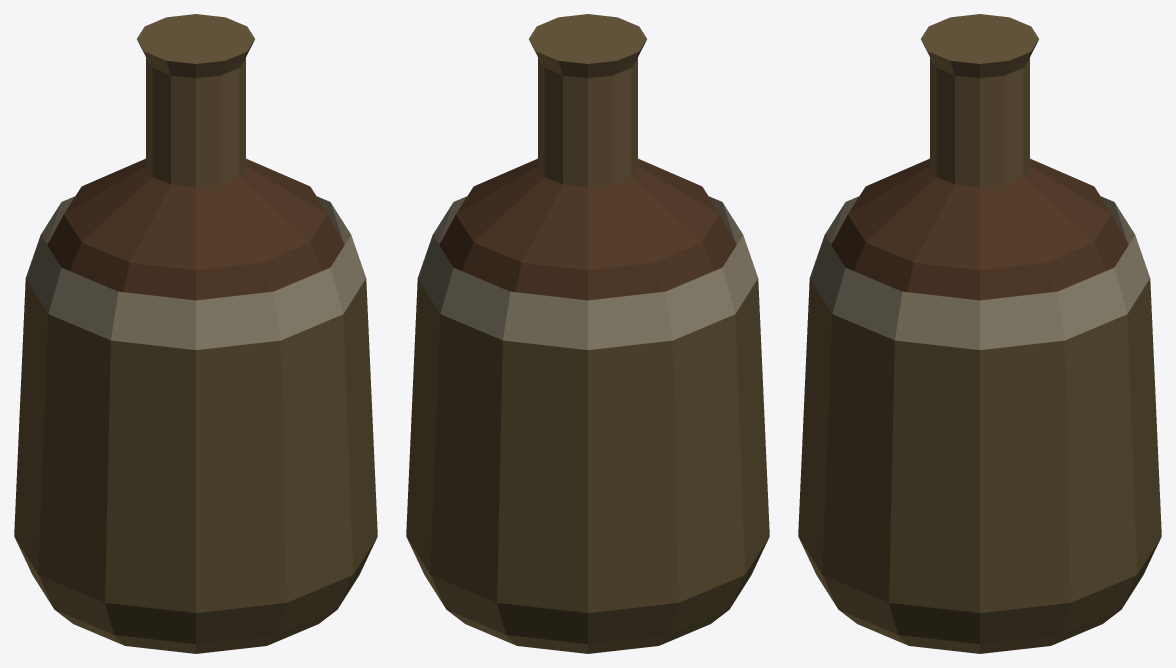
Rendered from ITMI_RUM_02.OBJ.
The picture shows the model from 3 angles, left to right: view 1: azimuth 30°, elevation 25°; view 2: azimuth 150°, elevation 25°; view 3: azimuth 270°, elevation 25°; orthographic projection.
Visible parts, largest first — view 1: ITMI_RUM_02; view 2: ITMI_RUM_02; view 3: ITMI_RUM_02.
Part boxes in pixels (x1=…): ITMI_RUM_02: x1=14, y1=14, x2=377, y2=653; ITMI_RUM_02: x1=406, y1=14, x2=769, y2=653; ITMI_RUM_02: x1=798, y1=14, x2=1161, y2=653.
Bounding box in the file's own units: 0.3353 × 0.5645 × 0.3353.
